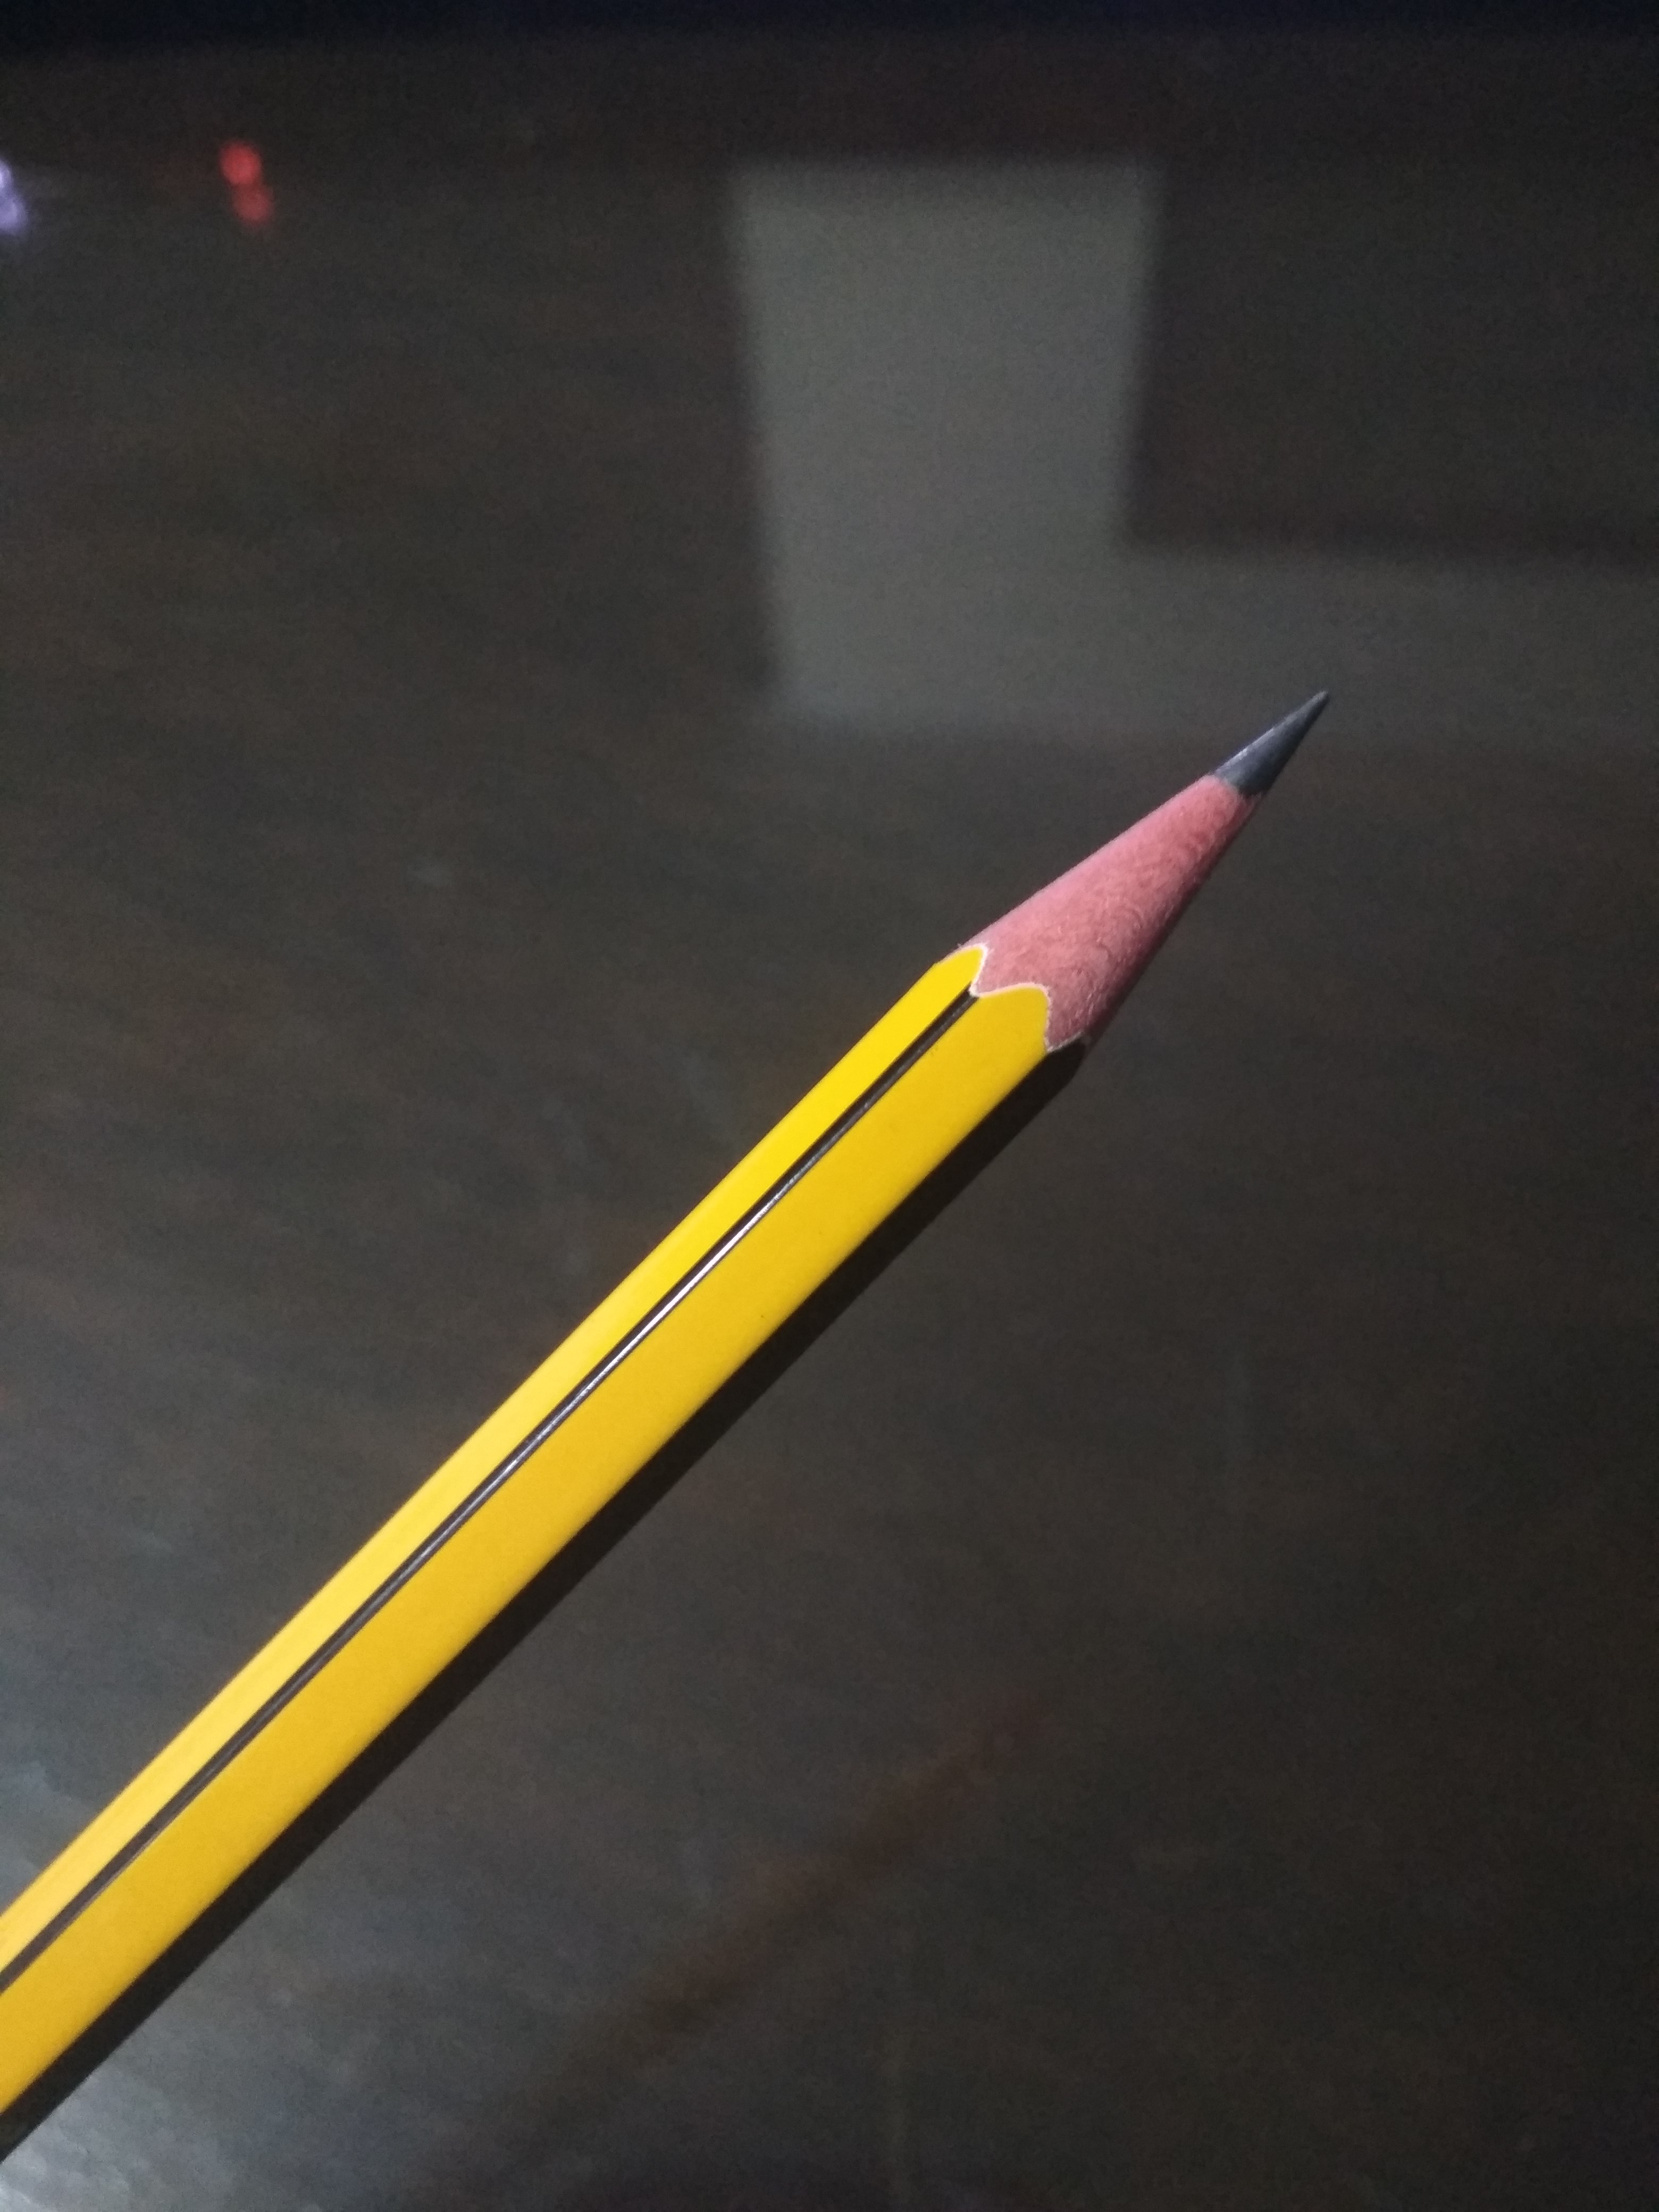pen_tip: (843, 549, 1460, 1191)
